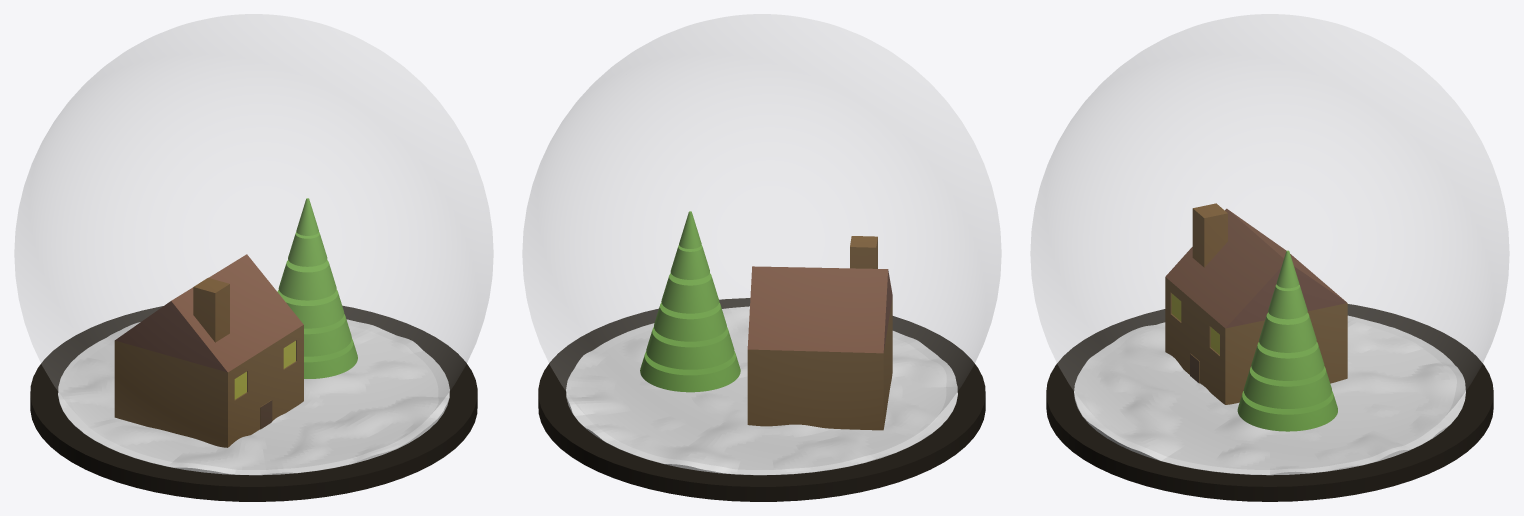
The model's file is snowglobe.gltf.
3 views of the same model, side by side, from view 1: azimuth 30°, elevation 25°; view 2: azimuth 150°, elevation 25°; view 3: azimuth 270°, elevation 25° (orthographic).
Visible parts, largest first — view 1: Globe, Snow, House, Base, Tree, Chimney; view 2: Globe, Snow, House, Base, Tree, Chimney; view 3: Globe, Snow, Base, House, Tree, Chimney.
Boxes of the visible parts, x1,y1,x2,y2 form: Globe: (14,14,493,469); Snow: (58,319,449,475); House: (114,254,303,447); Base: (30,305,477,501); Tree: (277,198,357,378); Chimney: (193,277,229,342); Globe: (522,14,1001,469); Snow: (566,306,957,475); House: (747,266,892,430); Base: (538,298,985,501); Tree: (640,211,740,392); Chimney: (850,236,877,268); Globe: (1030,14,1509,469); Snow: (1074,315,1465,475); Base: (1046,304,1493,501); House: (1165,208,1347,404); Tree: (1237,250,1337,431); Chimney: (1192,203,1227,267).
Size of the model in its own units: 3.99 by 3.41 by 3.99.
